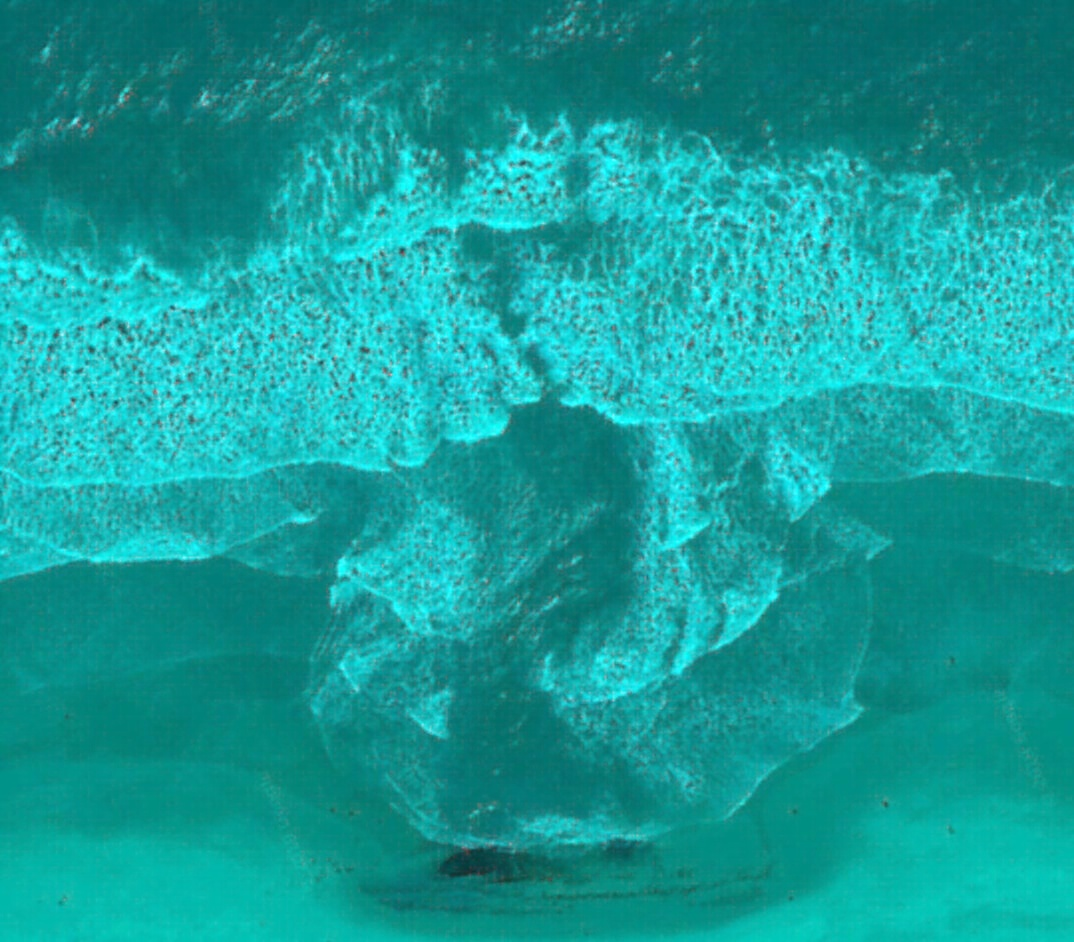rip_current: (398, 235, 693, 775)
